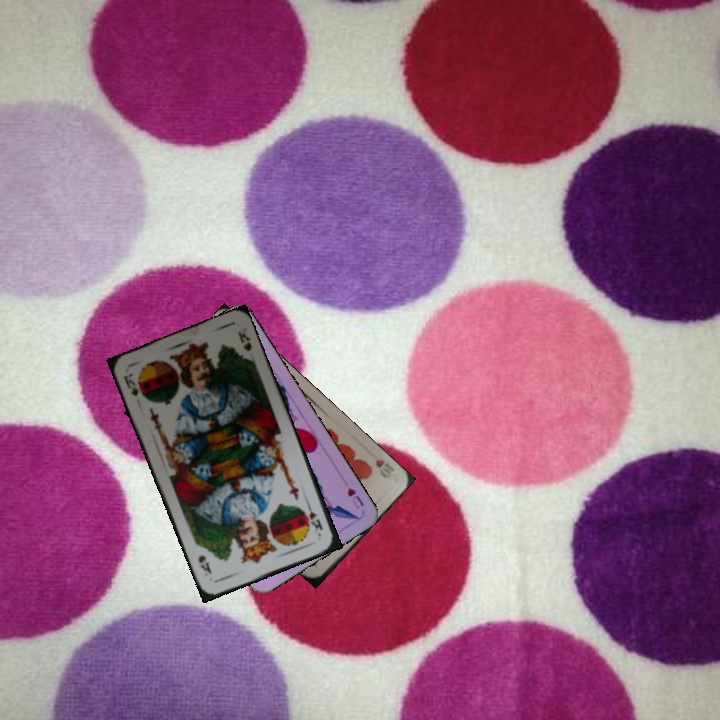H10: (371, 455, 397, 481)
HU: (343, 483, 367, 512)
SK: (302, 499, 325, 535), (119, 369, 146, 399)
